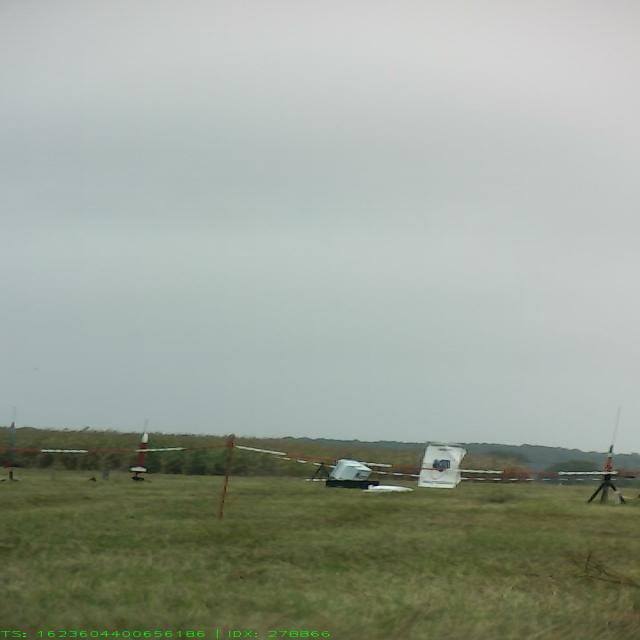Rocket: (129, 432, 149, 473), (603, 444, 614, 471)
